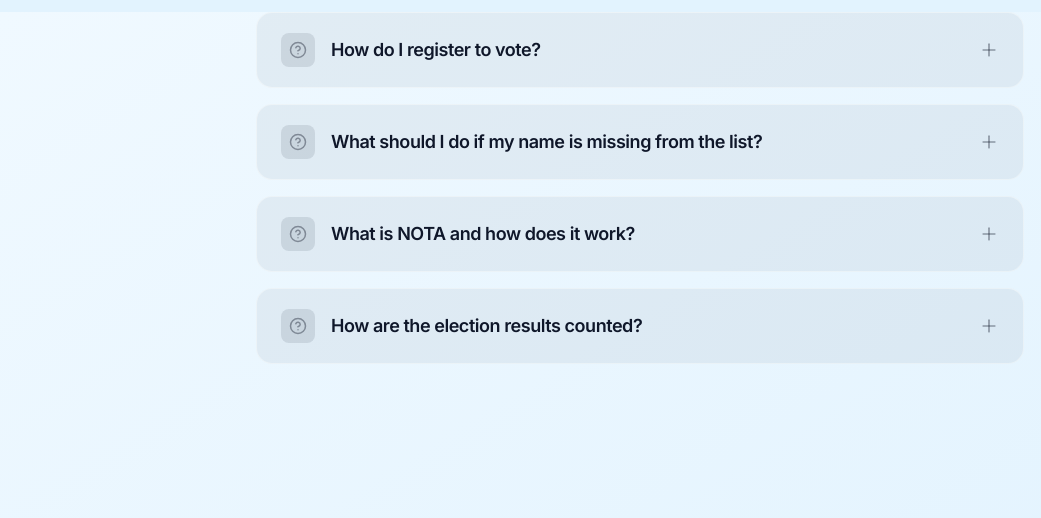
Test: FAQ Component › Accordion Interaction › opens the results counting question and shows its answer
What coordinates should you click on to do the following:
click the button "How are the election results counted?"
I would click on:
 (640, 326)
Its box is [257,289,1023,363].
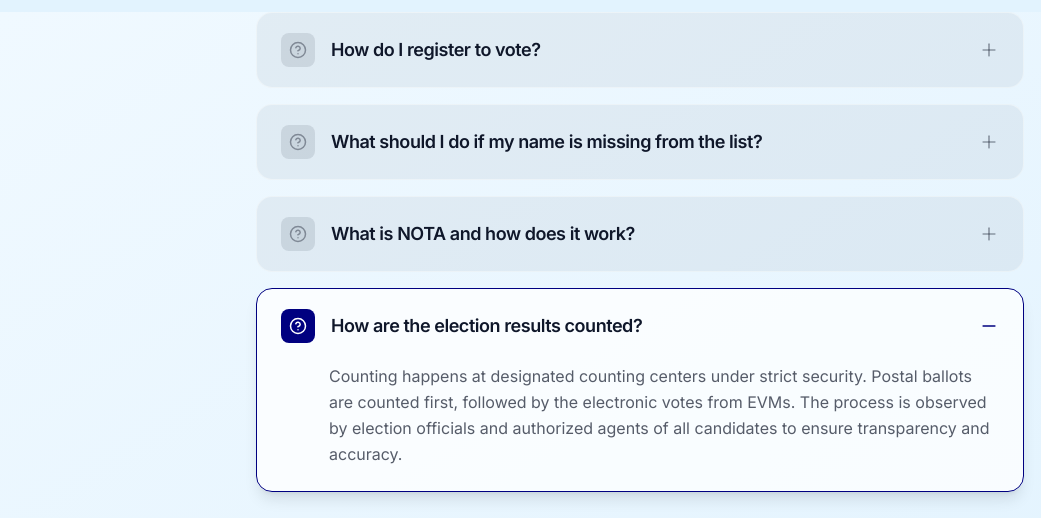
Expected: the text "designated counting centers" is shown, [329,366,990,464]
